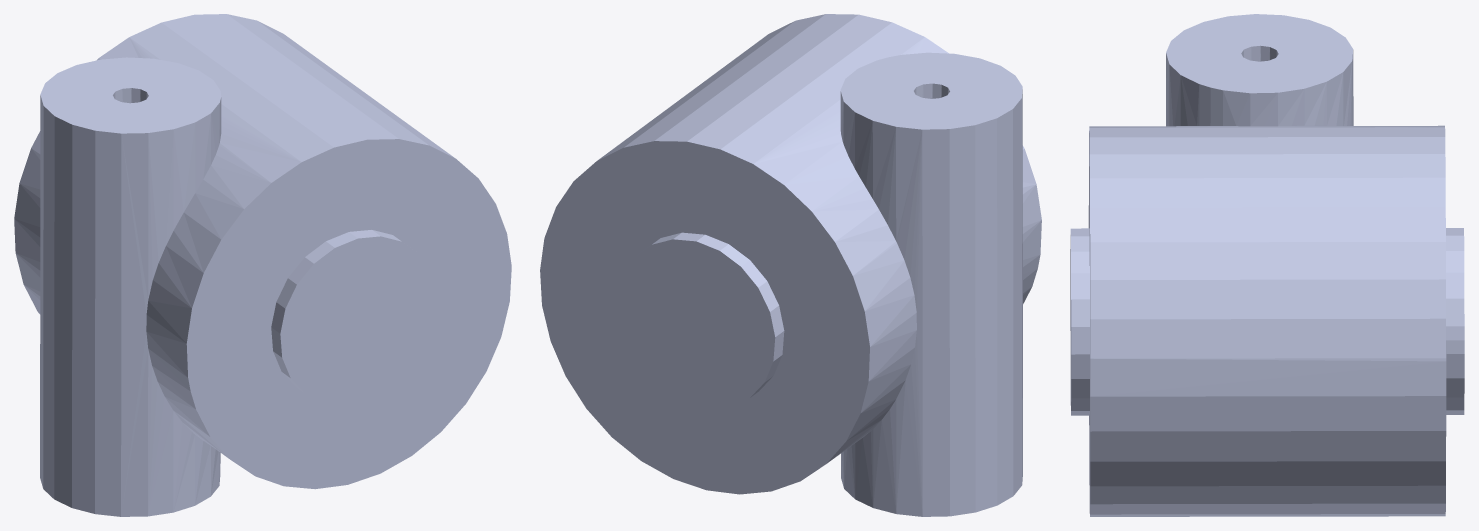
File: right_wrist_pitch_link.dae
The picture shows the model from 3 angles, left to right: view 1: azimuth 30°, elevation 25°; view 2: azimuth 150°, elevation 25°; view 3: azimuth 270°, elevation 25°; orthographic projection. The views are drawn at different scales.
Parts seen in each view (by area): view 1: node; view 2: node; view 3: node.
Part boxes in pixels (x1=…): node: x1=14, y1=14, x2=511, y2=516; node: x1=540, y1=14, x2=1041, y2=516; node: x1=1070, y1=14, x2=1464, y2=516.
Size of the model in its own units: 0.0723 by 0.0701 by 0.0629.
